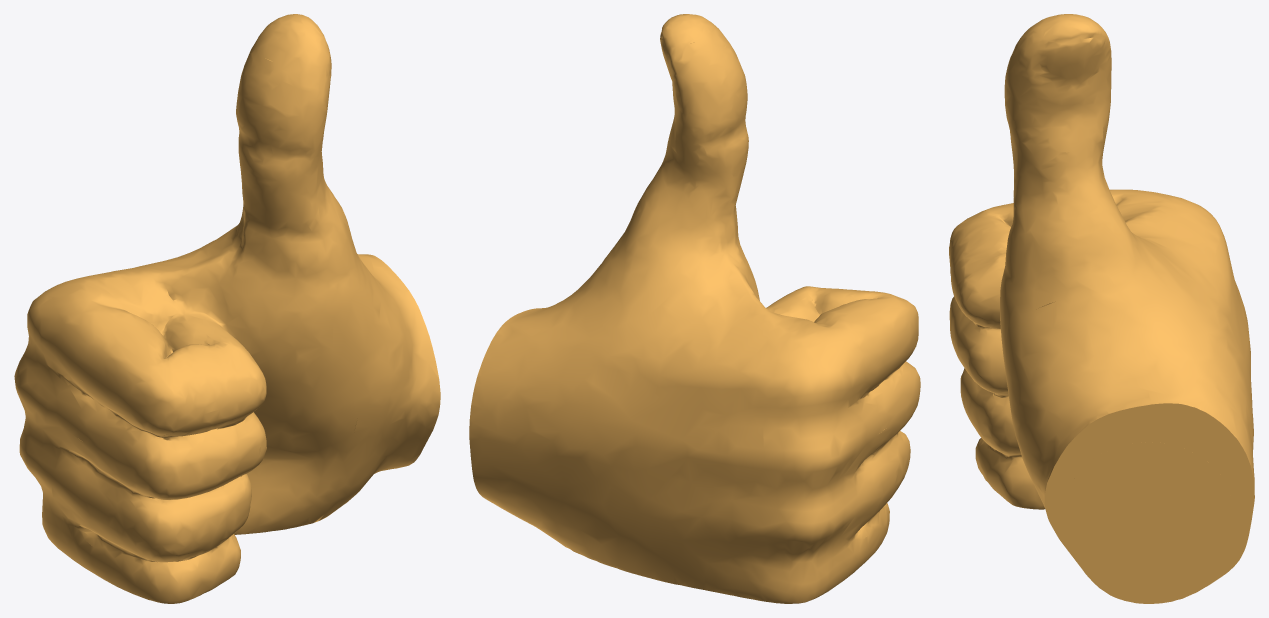
Rendered from thumbs-up.glb.
The picture shows the model from 3 angles, left to right: view 1: azimuth 30°, elevation 25°; view 2: azimuth 150°, elevation 25°; view 3: azimuth 270°, elevation 25°; orthographic projection. The views are drawn at different scales.
Visible parts, largest first — view 1: Object_0; view 2: Object_0; view 3: Object_0.
Boxes of the visible parts, x1,y1,x2,y2 form: Object_0: [14, 14, 440, 603]; Object_0: [469, 14, 920, 603]; Object_0: [949, 14, 1254, 603].
Bounding box in the file's own units: 0.2538 × 0.3544 × 0.1843.
